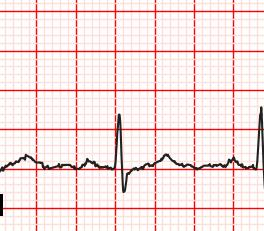ST Depression: (102, 162, 143, 197)
